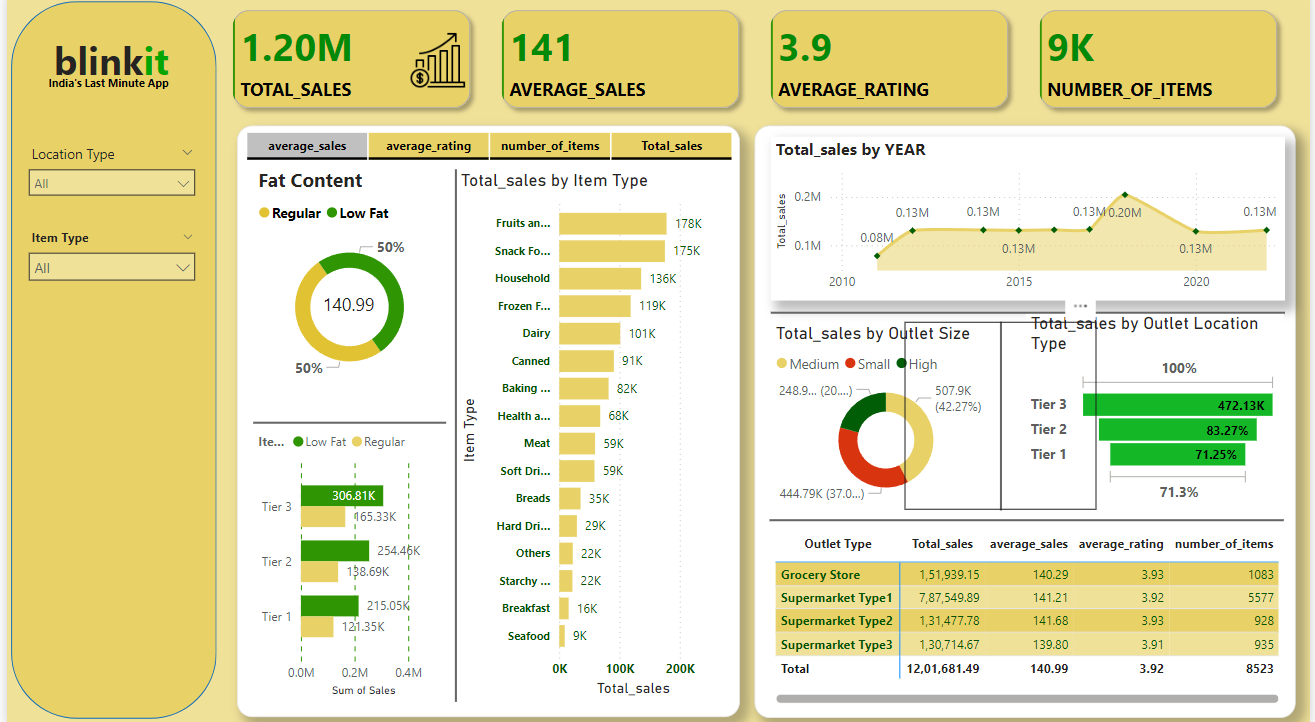

What the dashboard file says about the page in this screenshot:
{"tool":"powerbi","page":{"name":"Page 1","canvas":[1280,720],"ordinal":0},"visuals":[{"type":"shape","box":[0,0,205.8,720.4],"z":0},{"type":"textbox","box":[225.2,130.6,493.9,580.9],"z":1000},{"type":"textbox","box":[28,36,148.2,64.5],"z":2000},{"type":"textbox","box":[32.9,70,144.1,31.6],"z":3000},{"type":"cardVisual","fields":{"Data":["BlinkIT Grocery Data.Total_sales","BlinkIT Grocery Data.average_sales","BlinkIT Grocery Data.average_rating","BlinkIT Grocery Data.number_of_items"]},"box":[205.3,0,1059,130],"z":4000},{"type":"donutChart","title":"Fat Content","fields":{"Y":["BlinkIT Grocery Data.average_sales"],"Category":["BlinkIT Grocery Data.Item Fat Content"]},"box":[241.5,170.2,189.4,225],"z":5000},{"type":"barChart","fields":{"Category":["BlinkIT Grocery Data.Item Type"],"Y":["BlinkIT Grocery Data.Total_sales"]},"box":[440.5,172.9,267.6,522.8],"z":6000},{"type":"slicer","fields":{"Values":["metrics.metrics"]},"box":[194.9,130.4,555,39.8],"z":7000},{"type":"cardVisual","fields":{"Data":["BlinkIT Grocery Data.average_sales"]},"box":[266.2,259.3,138.6,83.7],"z":8000},{"type":"clusteredBarChart","fields":{"Category":["BlinkIT Grocery Data.Outlet Location Type"],"Series":["BlinkIT Grocery Data.Item Fat Content"],"Y":["Sum(BlinkIT Grocery Data.Sales)"]},"box":[241.5,421.3,189.4,274.4],"z":9000},{"type":"textbox","box":[734.1,130.4,531,581.8],"z":10000},{"type":"lineChart","title":"Total_sales by YEAR","fields":{"Y":["BlinkIT Grocery Data.Total_sales"],"Category":["BlinkIT Grocery Data.Outlet Establishment Year"]},"box":[749.2,141.3,505,160.5],"z":11000},{"type":"donutChart","fields":{"Y":["BlinkIT Grocery Data.Total_sales"],"Category":["BlinkIT Grocery Data.Outlet Size"]},"box":[749.2,323.8,226.4,181.1],"z":12000},{"type":"funnel","fields":{"Category":["BlinkIT Grocery Data.Outlet Location Type"],"Y":["BlinkIT Grocery Data.Total_sales"]},"box":[1000.3,314.2,252.5,190.7],"z":13000},{"type":"pivotTable","fields":{"Rows":["BlinkIT Grocery Data.Outlet Type"],"Values":["BlinkIT Grocery Data.Total_sales","BlinkIT Grocery Data.average_sales","BlinkIT Grocery Data.average_rating","BlinkIT Grocery Data.number_of_items"]},"box":[749.2,524.2,503.6,178.4],"z":14000},{"type":"shape","box":[241.5,400.7,189.4,41.2],"z":15000},{"type":"shape","box":[376,172.9,130.4,522.8],"z":16000},{"type":"shape","box":[749.2,293.7,505,41.2],"z":17000},{"type":"shape","box":[881,314.2,189.4,185.2],"z":18000},{"type":"shape","box":[747.9,496.7,505,41.2],"z":19000},{"type":"slicer","fields":{"Values":["BlinkIT Grocery Data.Outlet Location Type"]},"box":[11,144.1,183.9,78.2],"z":20000},{"type":"slicer","fields":{"Values":["BlinkIT Grocery Data.Item Type"]},"box":[11,226.4,183.9,75.5],"z":21000}]}

Visuals, with their boxes in screenshot pixels (x1, y1, x2, y2), scaled from the page's 1280x720 canvas onto the 1315x722 screenshot:
shape: bbox=(0, 0, 211, 721)
textbox: bbox=(231, 131, 739, 713)
textbox: bbox=(29, 36, 181, 101)
textbox: bbox=(34, 70, 182, 102)
cardVisual - BlinkIT Grocery Data.Total_sales x BlinkIT Grocery Data.average_sales: bbox=(211, 0, 1299, 130)
"Fat Content" donutChart: bbox=(248, 171, 443, 396)
barChart - BlinkIT Grocery Data.Item Type x BlinkIT Grocery Data.Total_sales: bbox=(453, 173, 727, 698)
slicer - metrics.metrics: bbox=(200, 131, 770, 171)
cardVisual - BlinkIT Grocery Data.average_sales: bbox=(273, 260, 416, 344)
clusteredBarChart - BlinkIT Grocery Data.Outlet Location Type x BlinkIT Grocery Data.Item Fat Content: bbox=(248, 422, 443, 698)
textbox: bbox=(754, 131, 1300, 714)
"Total_sales by YEAR" lineChart: bbox=(770, 142, 1288, 303)
donutChart - BlinkIT Grocery Data.Total_sales x BlinkIT Grocery Data.Outlet Size: bbox=(770, 325, 1002, 506)
funnel - BlinkIT Grocery Data.Outlet Location Type x BlinkIT Grocery Data.Total_sales: bbox=(1028, 315, 1287, 506)
pivotTable - BlinkIT Grocery Data.Outlet Type x BlinkIT Grocery Data.Total_sales: bbox=(770, 526, 1287, 705)
shape: bbox=(248, 402, 443, 443)
shape: bbox=(386, 173, 520, 698)
shape: bbox=(770, 295, 1288, 336)
shape: bbox=(905, 315, 1100, 501)
shape: bbox=(768, 498, 1287, 539)
slicer - BlinkIT Grocery Data.Outlet Location Type: bbox=(11, 145, 200, 223)
slicer - BlinkIT Grocery Data.Item Type: bbox=(11, 227, 200, 303)
